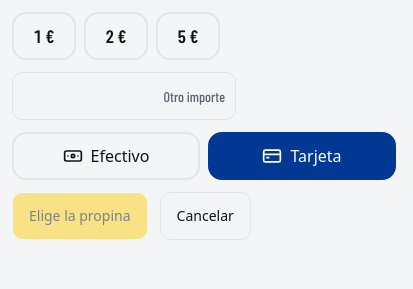
TipForm › un importe que no se entiende o de más de 100 € avisa y no se guarda
This screenshot has width=413, height=289.
Type "dos" into the field with test id "tip-other".
click(124, 96); type("dos")  # box [12, 72, 236, 120]
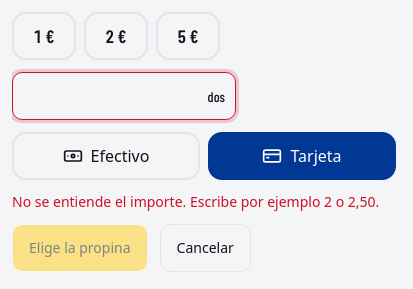
Expected: the button with test id "tip-save" is disabled, [12, 224, 148, 272]
Expected: the message with test id "tip-error" shows "No se entiende el importe.", [12, 192, 379, 211]
Replace the text in the field with test id "tip-other" with "500" at (124, 96), box [12, 72, 236, 120]
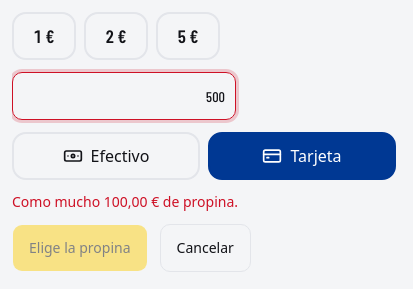
Expected: the button with test id "tip-save" is disabled, [12, 224, 148, 272]
Expected: the message with test id "tip-error" reads "Como mucho 100,00 € de propina.", [12, 192, 238, 211]
